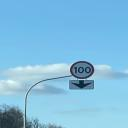speed_limit_100: (67, 60, 96, 80)
